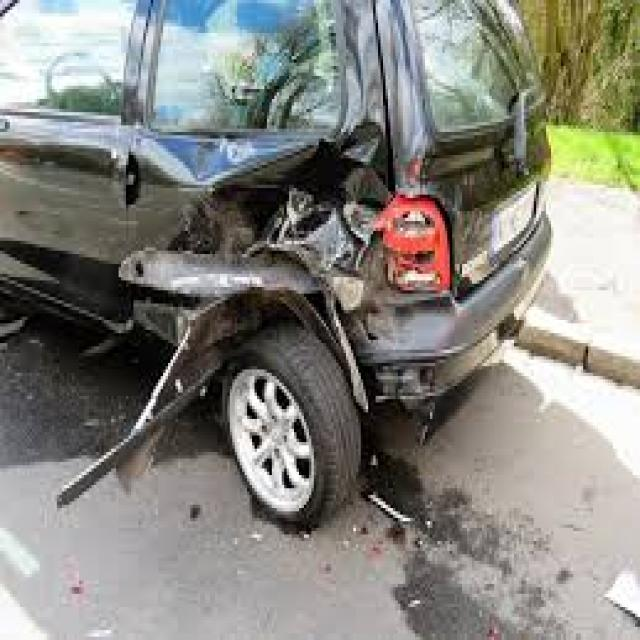accident: (92, 6, 588, 528)
